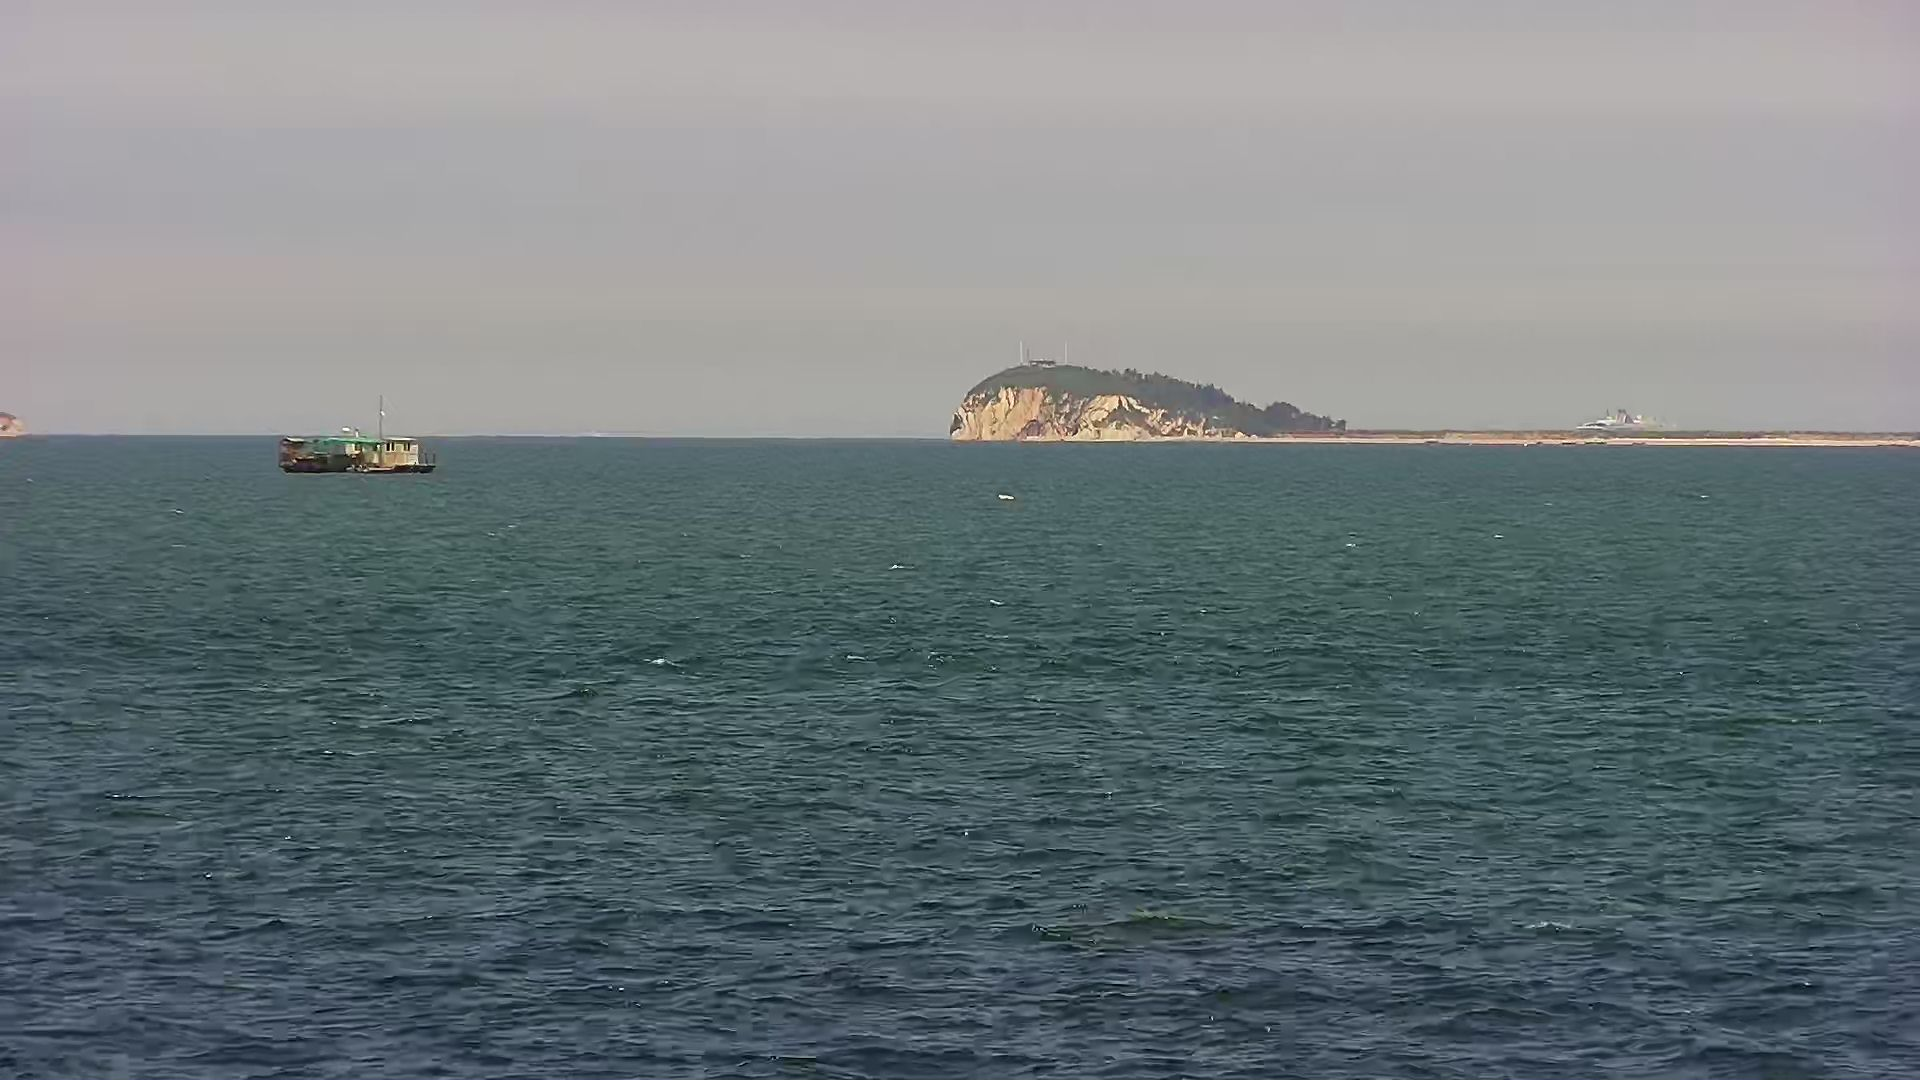platform: (276, 409, 450, 483)
rock: (945, 334, 1917, 440)
